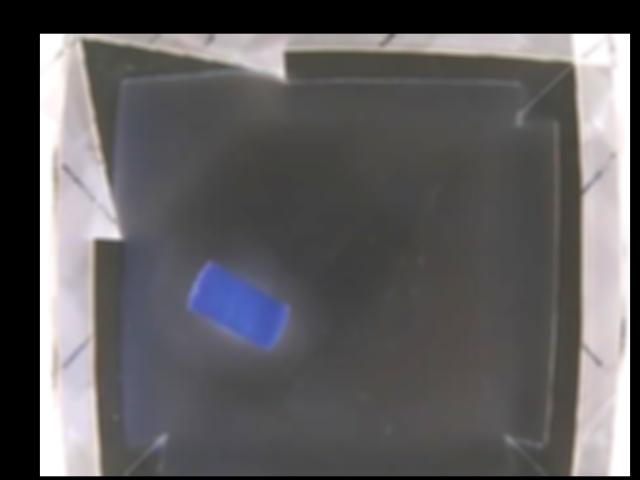Potato: (189, 261, 289, 345)
